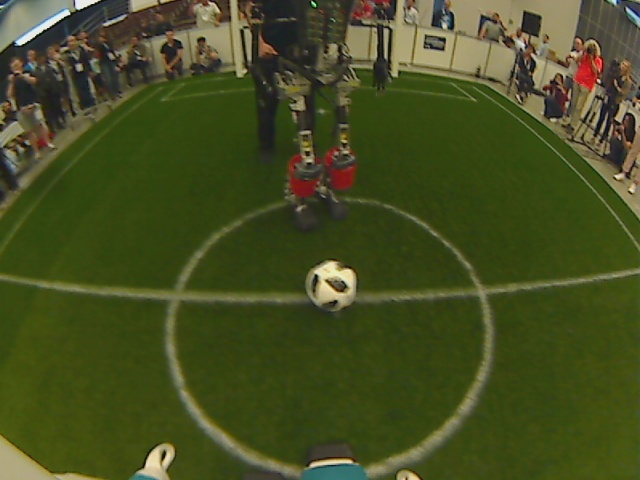ball: (304, 259, 359, 311)
